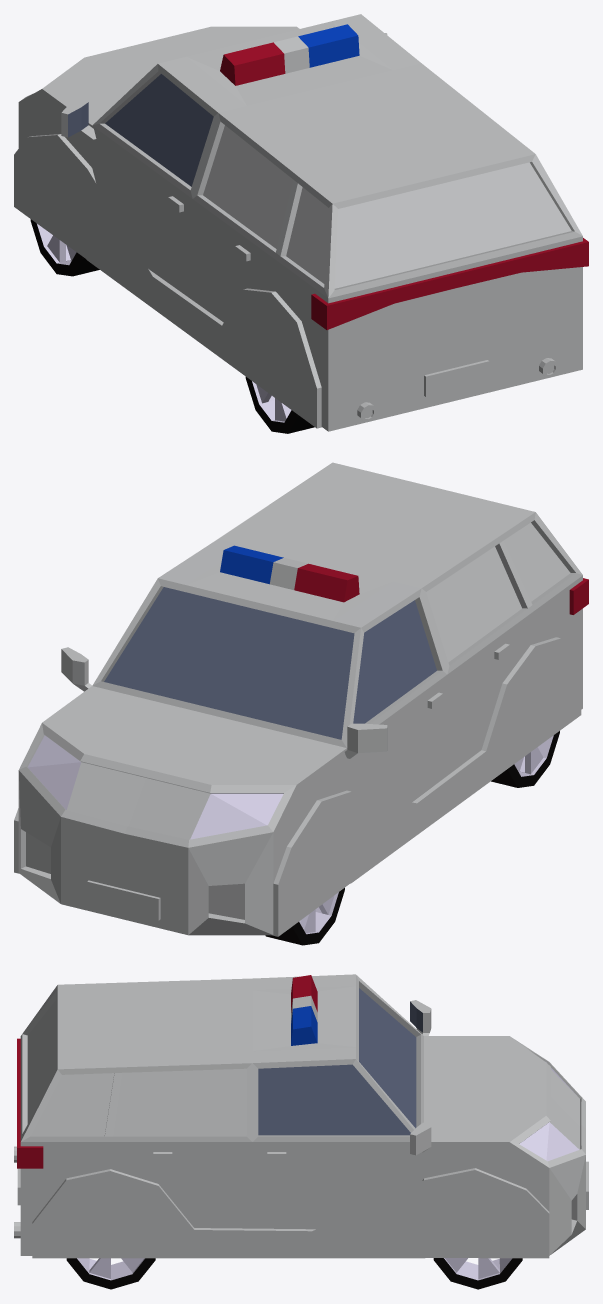
The model's file is rgs-police-suv.glb.
The picture shows the model from 3 angles, top to bottom: view 1: azimuth 30°, elevation 25°; view 2: azimuth 150°, elevation 25°; view 3: azimuth 270°, elevation 25°; orthographic projection. The views are drawn at different scales.
Visible parts, largest first — view 1: paint, light, glass, wheel_fl, wheel_rl; view 2: paint, glass, light, wheel_fl, wheel_rl; view 3: paint, glass, light, wheel_fr, wheel_rr.
Part boxes in pixels (x1,y1,x2,y2): paint: (14,14,582,431); light: (220,24,588,329); glass: (68,74,213,186); wheel_fl: (30,219,99,276); wheel_rl: (245,377,314,433); paint: (14,462,582,936); glass: (104,587,436,739); light: (27,545,588,839); wheel_fl: (265,888,344,945); wheel_rl: (491,731,559,787); paint: (14,974,588,1258); glass: (258,988,422,1135); light: (17,975,579,1168); wheel_fr: (433,1258,522,1289); wheel_rr: (66,1258,155,1289).
Bounding box in the file's own units: 2.74 × 2.2 × 4.9.
